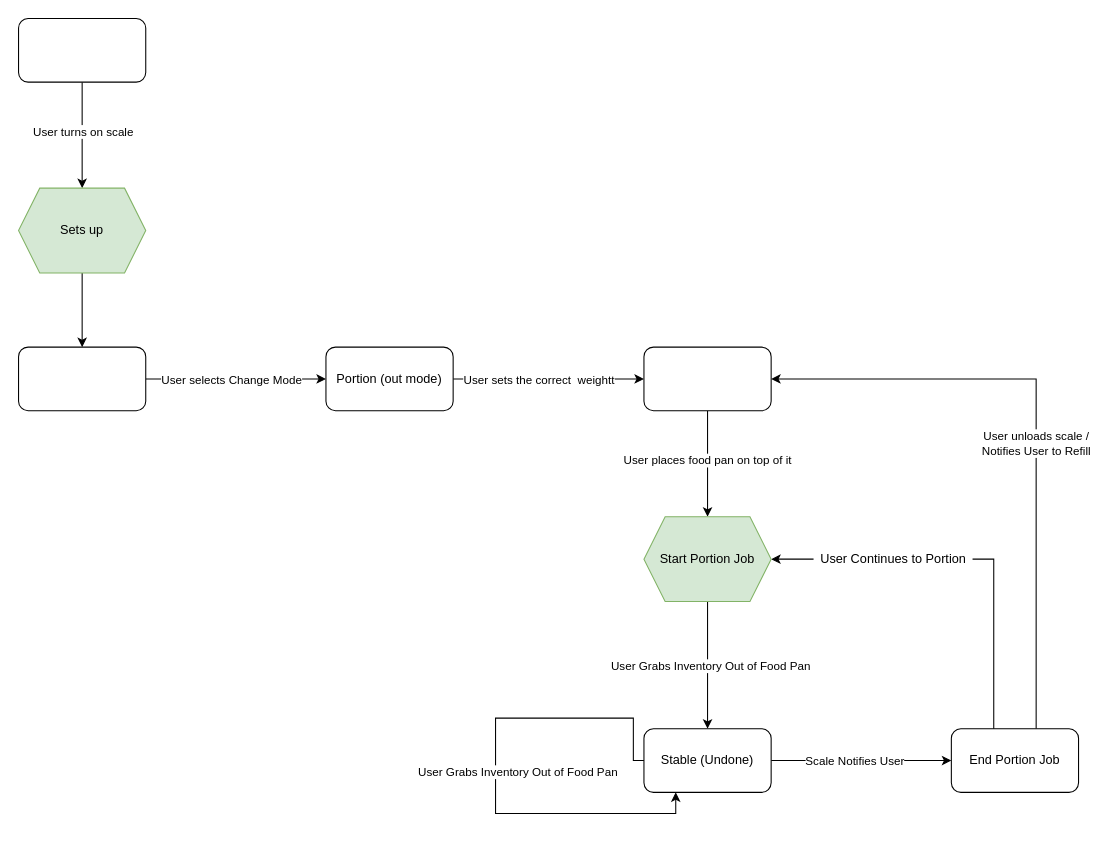
Image size: 1109x841. Some labels were removed from this diagram. The centre of each missing label's shape, as x and y in pixels:
Normal (In mode): the point at 81,378
Offline: the point at 81,49
Unloaded: the point at 707,378
